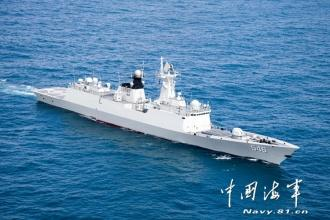warship: (33, 55, 300, 165)
